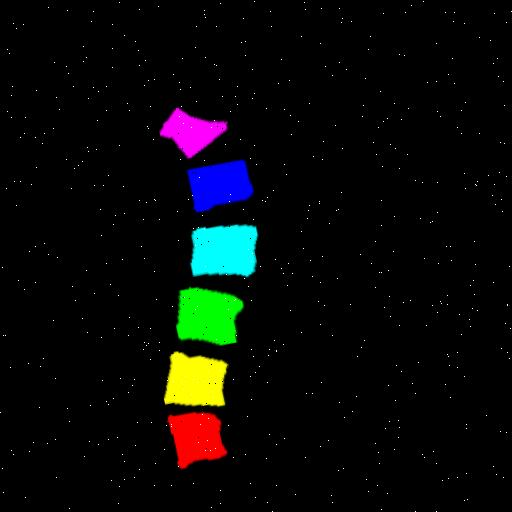L1: (168, 409, 224, 465)
L2: (162, 350, 226, 402)
L3: (174, 285, 241, 342)
L4: (189, 220, 256, 273)
L5: (186, 157, 251, 210)
S1: (158, 106, 225, 155)
